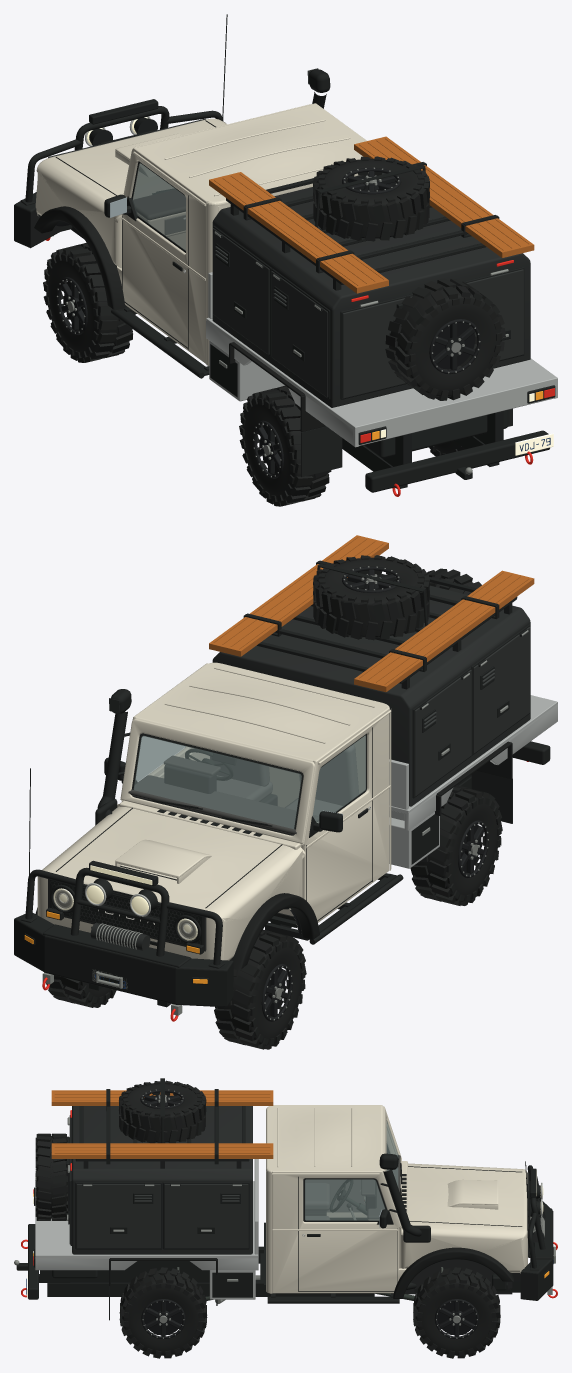
File: lc79-proposal-v1.glb
3 renders of one model, top to bottom at view 1: azimuth 30°, elevation 25°; view 2: azimuth 150°, elevation 25°; view 3: azimuth 270°, elevation 25°, orthographic. The views are drawn at different scales.
Visible parts, largest first — view 1: body-cabin-and-equipment, lc79-single-cab; view 2: body-cabin-and-equipment, lc79-single-cab; view 3: body-cabin-and-equipment, lc79-single-cab.
Part boxes in pixels (x1,y1,x2,y2): body-cabin-and-equipment: [14, 14, 557, 496]; lc79-single-cab: [43, 136, 534, 506]; body-cabin-and-equipment: [14, 555, 557, 1021]; lc79-single-cab: [44, 535, 534, 1049]; body-cabin-and-equipment: [14, 1078, 557, 1320]; lc79-single-cab: [51, 1089, 500, 1358].
Size of the model in its own units: 2.22 by 2.68 by 5.9.
